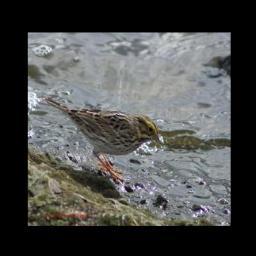Sparrow: (44, 95, 162, 181)
